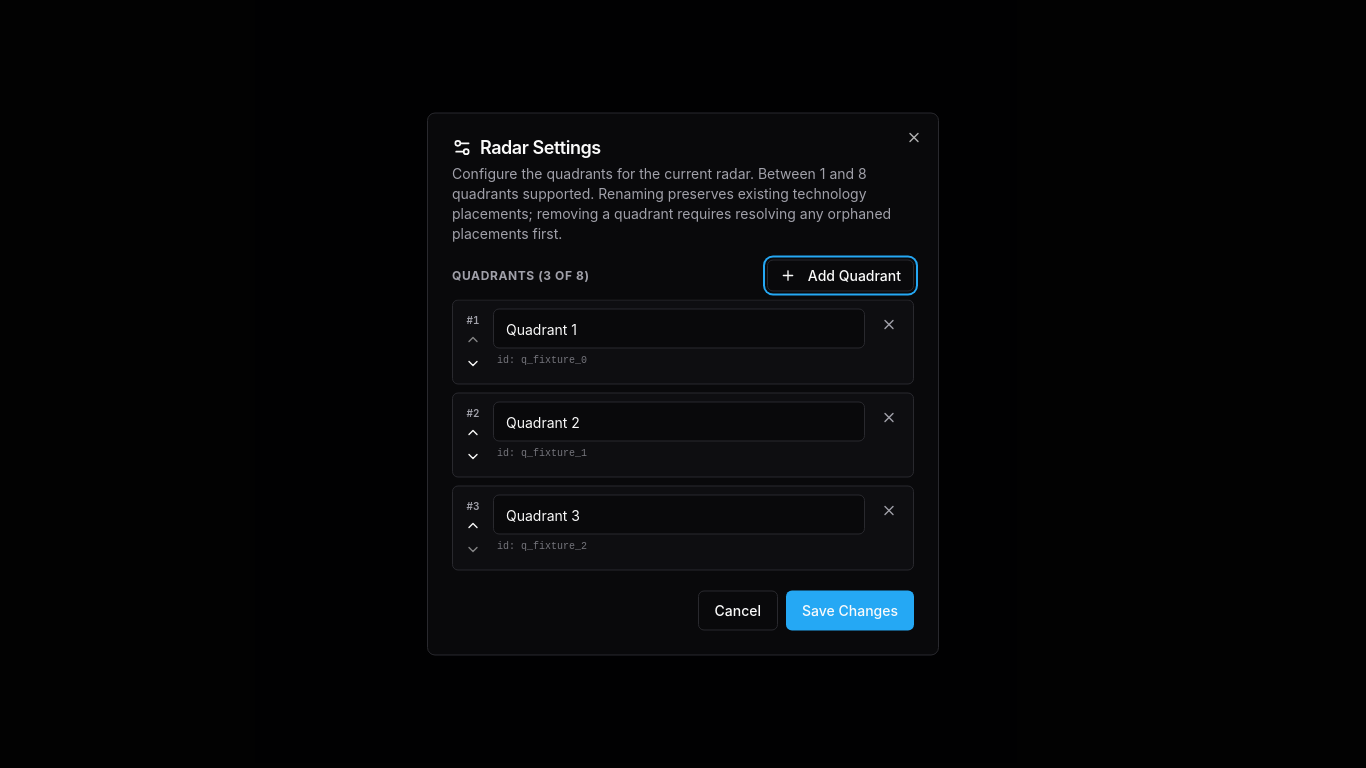
Test case: SettingsDialog › row management › adds a new empty row when Add Quadrant is clicked
The image size is (1366, 768).
Click the button "Add Quadrant".
click(840, 276)  # box left=767, top=260, right=914, bottom=292
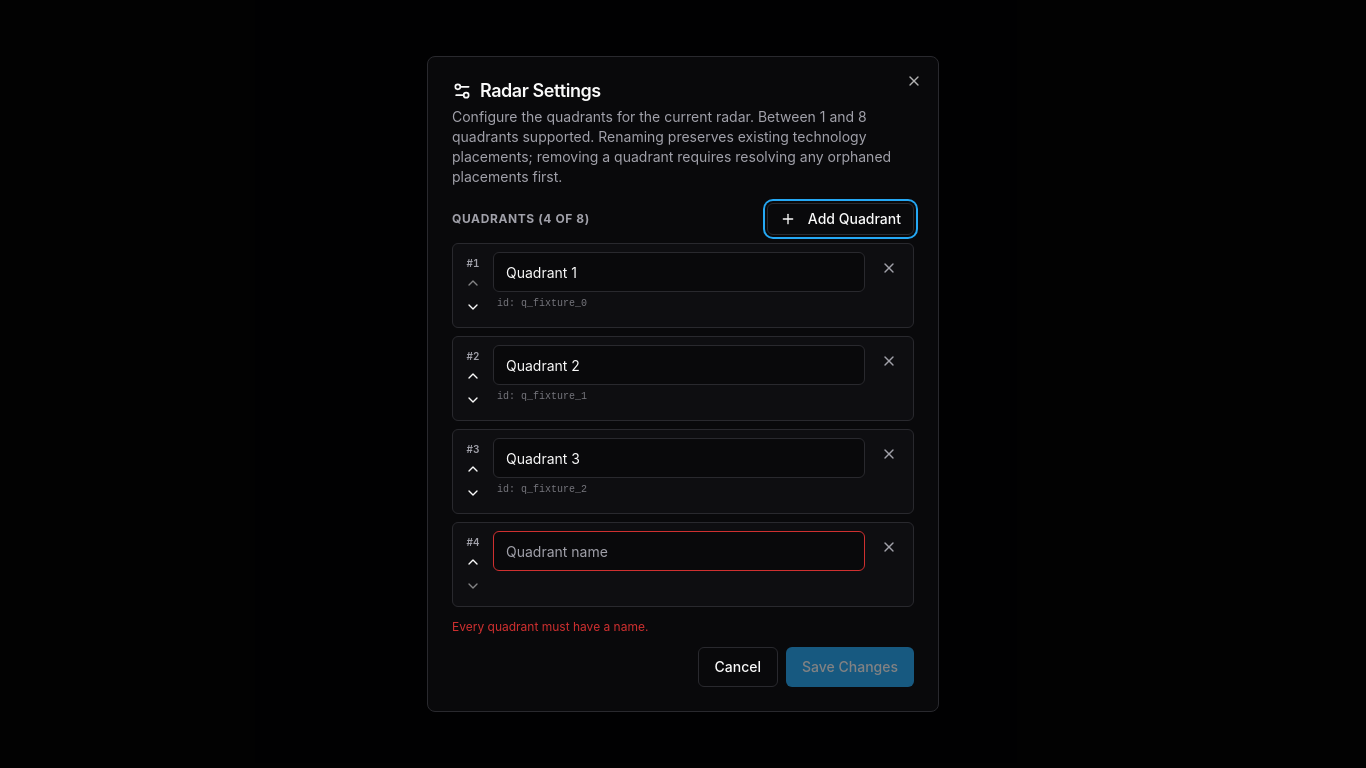
expect the text "Quadrants (4 of 8)" is shown: met, box left=452, top=211, right=590, bottom=227
expect the number of fields with placeholder "Quadrant name" is 4: met, box left=493, top=252, right=865, bottom=292; left=493, top=345, right=865, bottom=385; left=493, top=438, right=865, bottom=478; left=493, top=531, right=865, bottom=571
expect the field with placeholder "Quadrant name" is empty: met, box left=493, top=531, right=865, bottom=571
